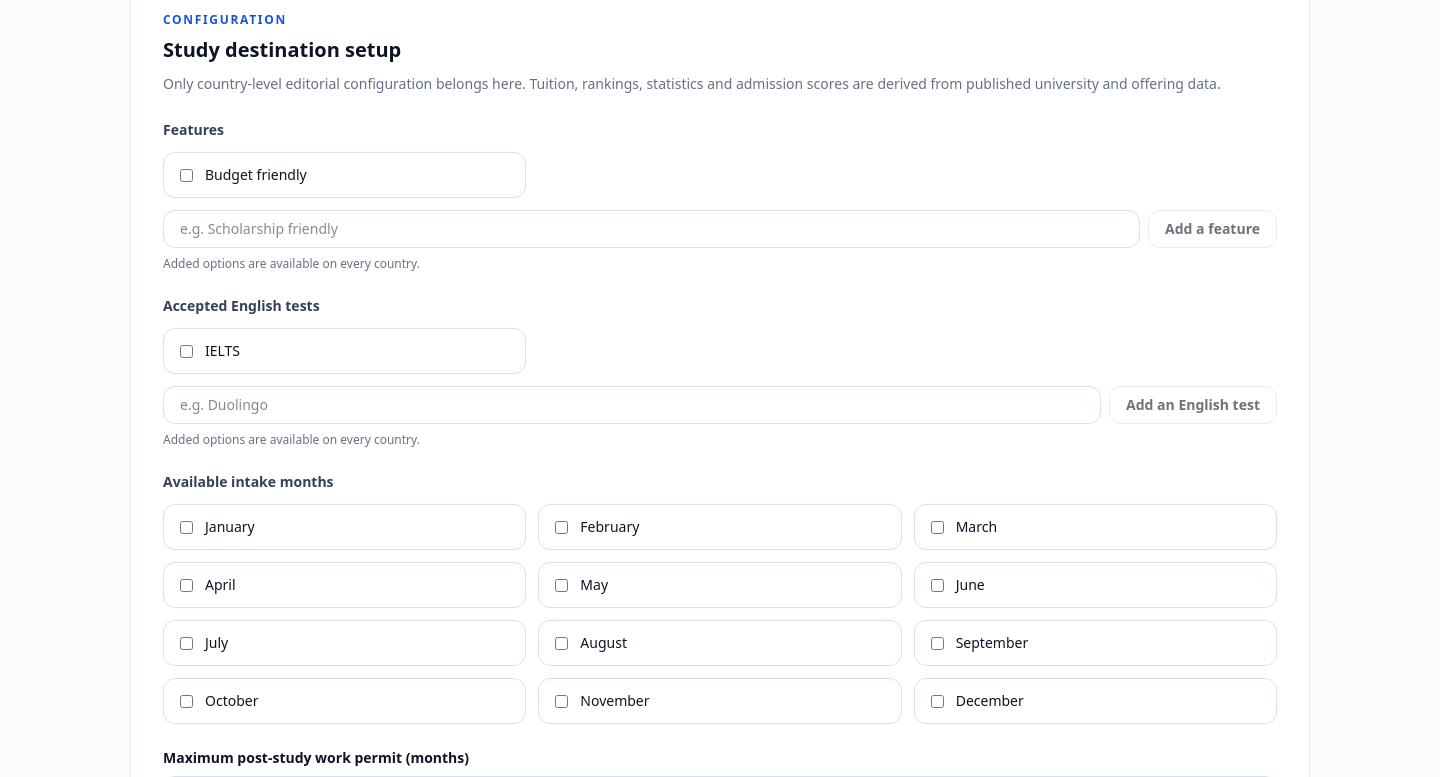
it: country editor reusable taxonomies › adds an accepted English test the same way
(page scrolled)
Type "Duolingo" into the field named "Add an English test" at x=632, y=405, box [163,386,1101,424]
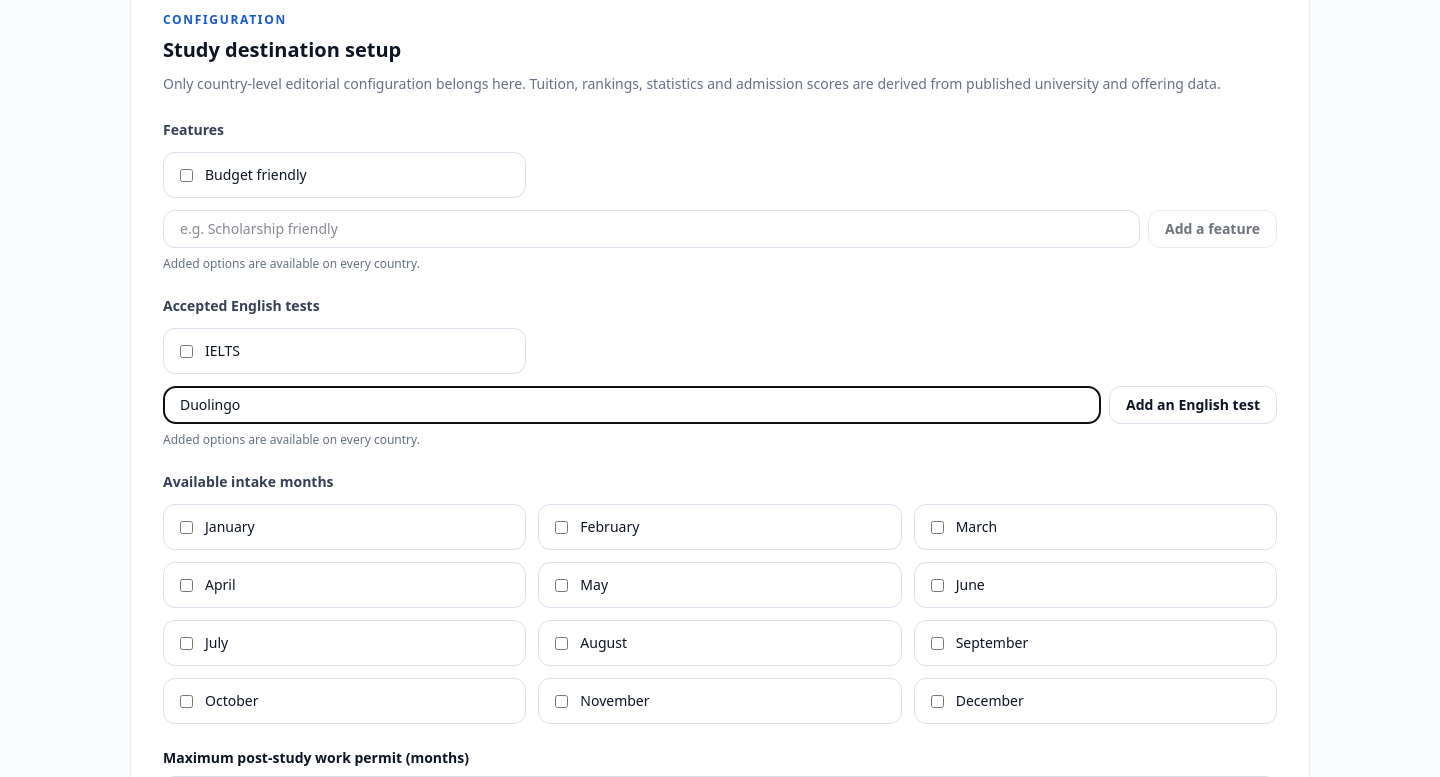
Click the button "Add an English test" at x=1193, y=405, box [1109,386,1277,424]
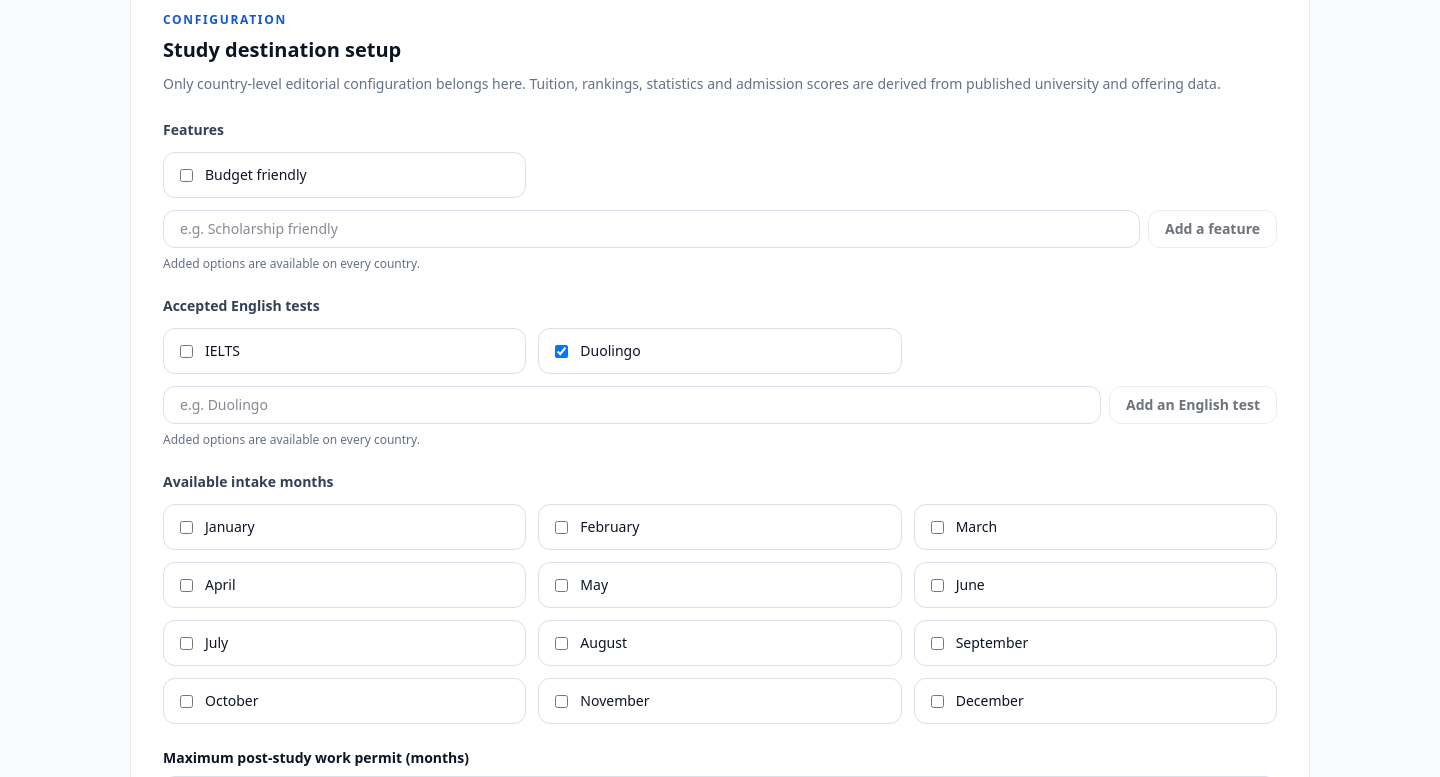
Expected: the checkbox labelled "IELTS" is not checked, [180,344,193,358]
Now the checkbox labelled "Duolingo" is checked, box [555,344,568,358]
